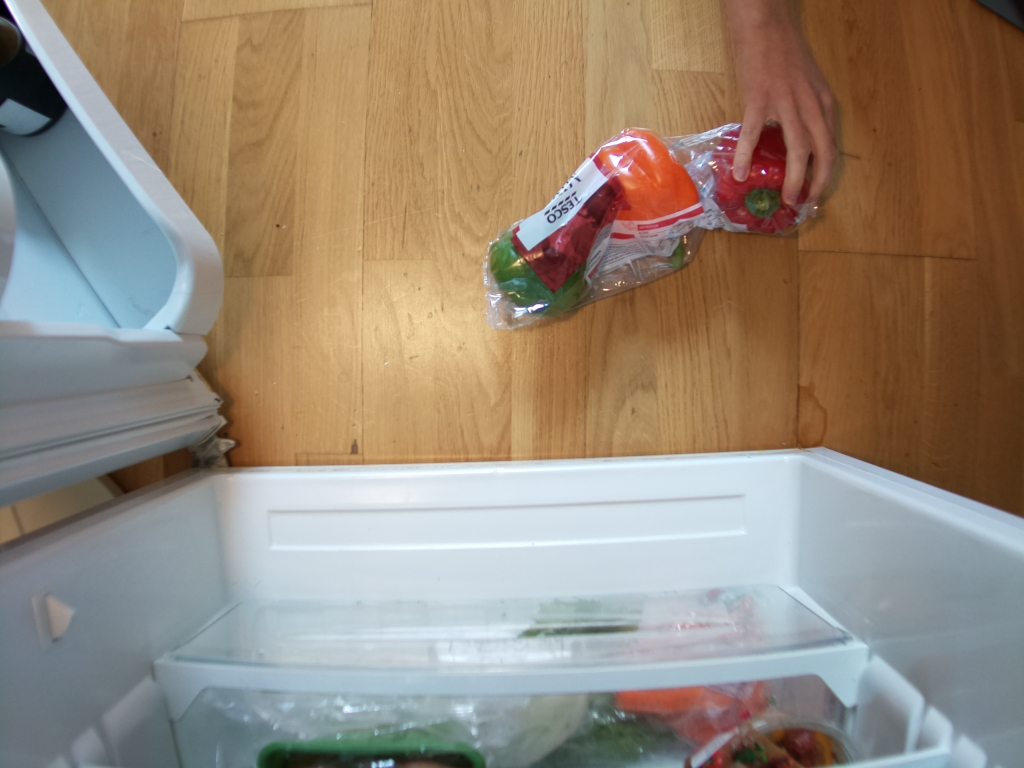pepper: (575, 127, 705, 270), (714, 121, 811, 235), (489, 227, 594, 319)
